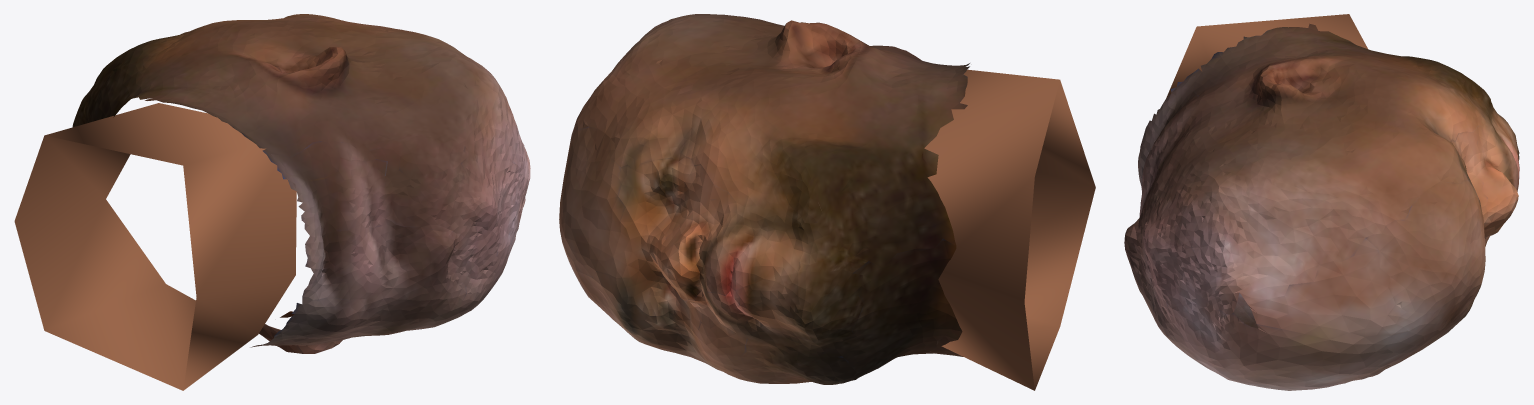
3 views of the same model, side by side, from view 1: azimuth 30°, elevation 25°; view 2: azimuth 150°, elevation 25°; view 3: azimuth 270°, elevation 25° (orthographic). The views are drawn at different scales.
Parts seen in each view (by area): view 1: head; view 2: head; view 3: head.
Boxes of the visible parts, bbox=[...] form: head: bbox=[14, 14, 530, 390]; head: bbox=[559, 14, 1095, 390]; head: bbox=[1124, 14, 1519, 390].
Bounding box in the file's own units: 0.4132 × 0.2648 × 0.3421.
Materials: 2 (1 with a texture image).
